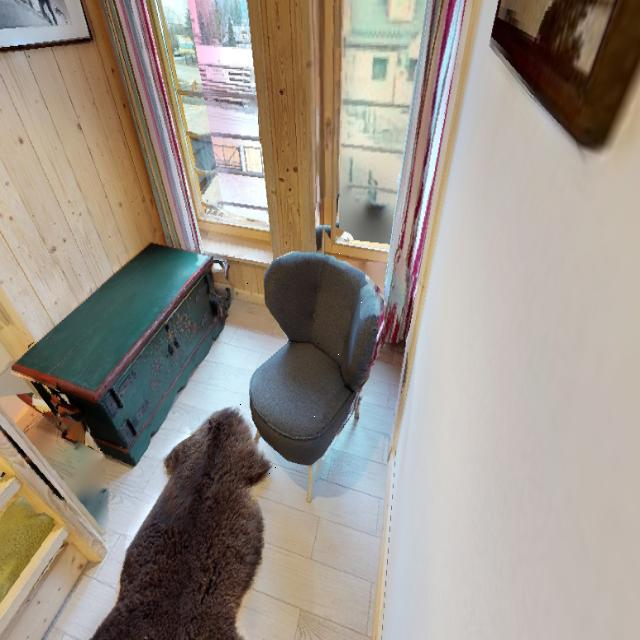sofa: (234, 242, 387, 498)
